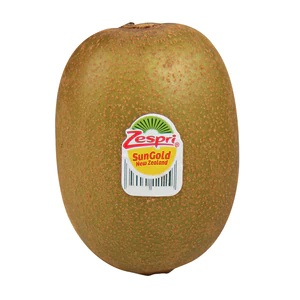kiwi: (55, 22, 239, 276)
